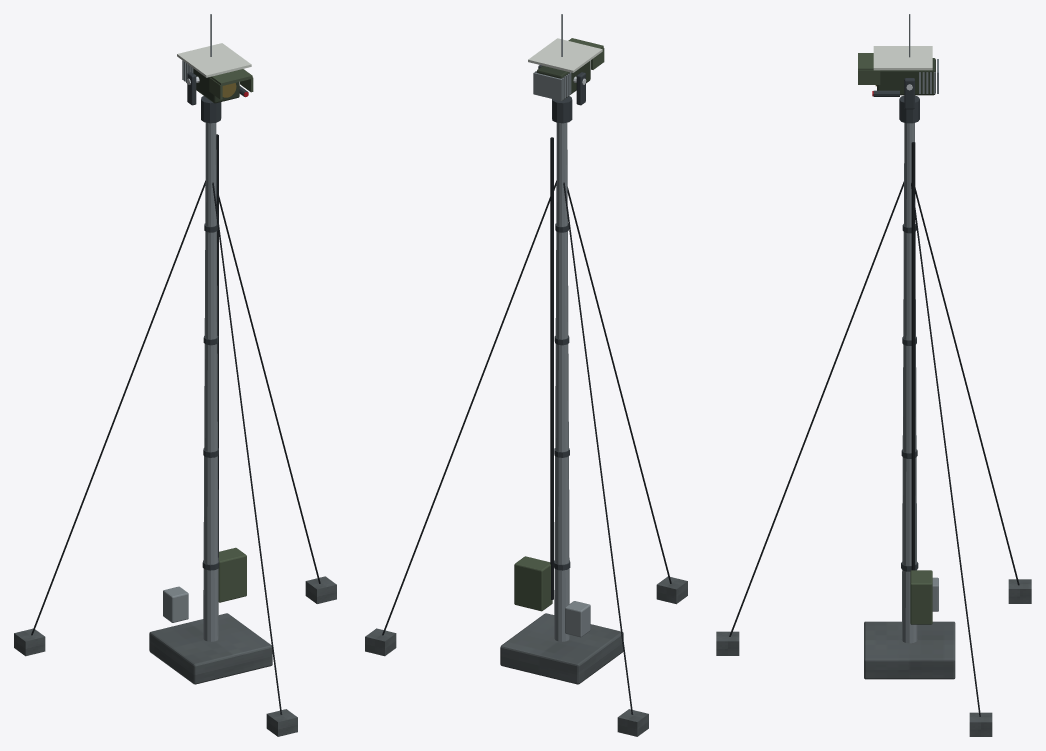
File: sns_cam_mast_ir.glb
3 views of the same model, side by side, from view 1: azimuth 30°, elevation 25°; view 2: azimuth 150°, elevation 25°; view 3: azimuth 270°, elevation 25° (orthographic).
Visible parts, largest first — view 1: SNS_CAM_MAST_IR; view 2: SNS_CAM_MAST_IR; view 3: SNS_CAM_MAST_IR.
Boxes of the visible parts, x1,y1,x2,y2 form: SNS_CAM_MAST_IR: (14, 14, 336, 736); SNS_CAM_MAST_IR: (365, 14, 687, 736); SNS_CAM_MAST_IR: (716, 14, 1031, 736).
Size of the model in its own units: 5.16 by 10.91 by 4.82.
10 materials, 1 textured.
